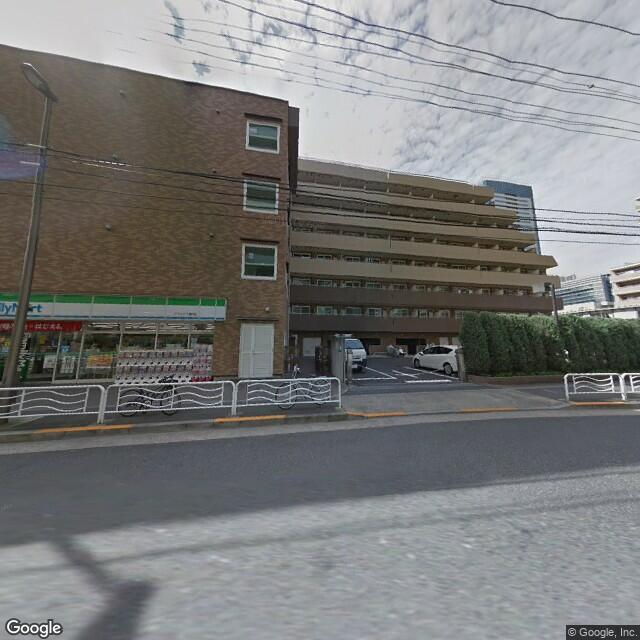family_mart: (1, 289, 227, 323)
